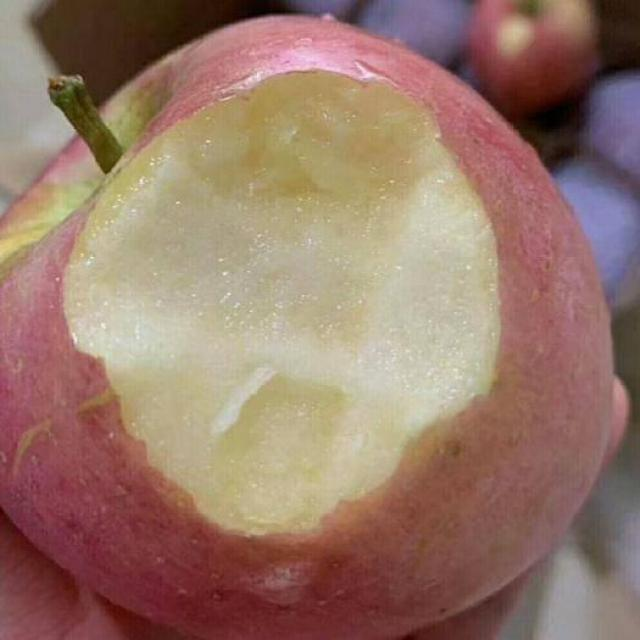Apple: (0, 12, 622, 640)
